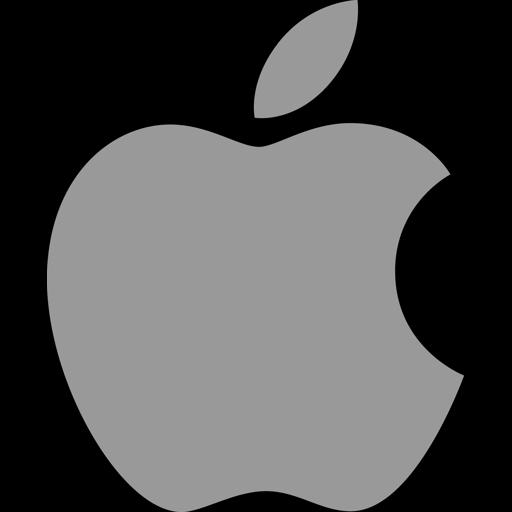Apple: (47, 0, 464, 512)
